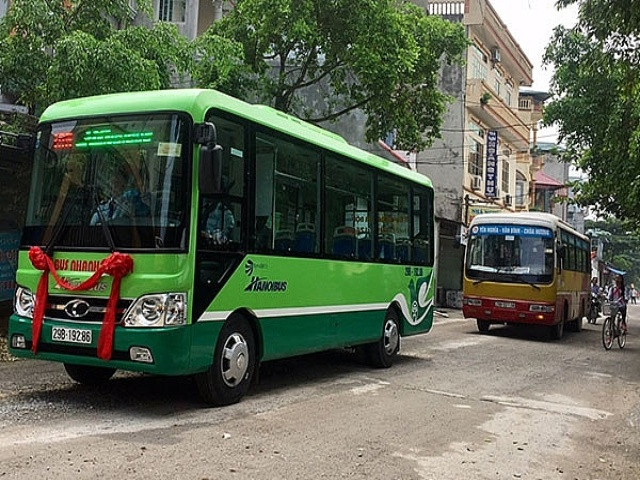Xe_buyt: (12, 86, 437, 402), (463, 211, 592, 339)
